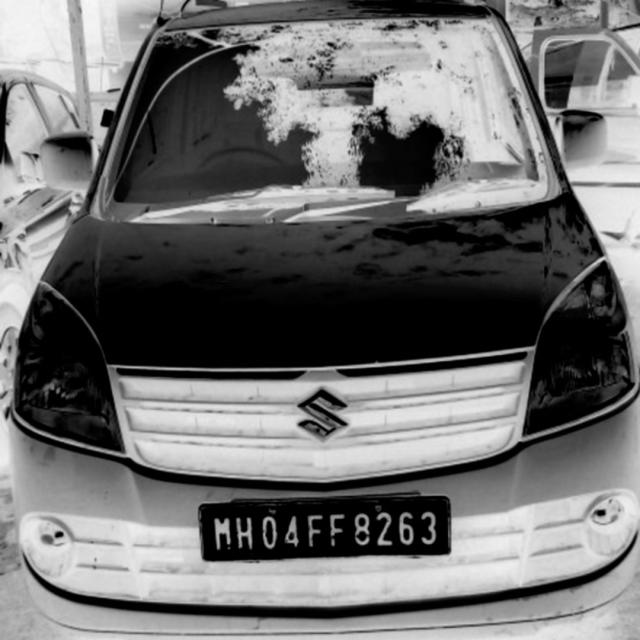Non_registered: (203, 507, 453, 557)
